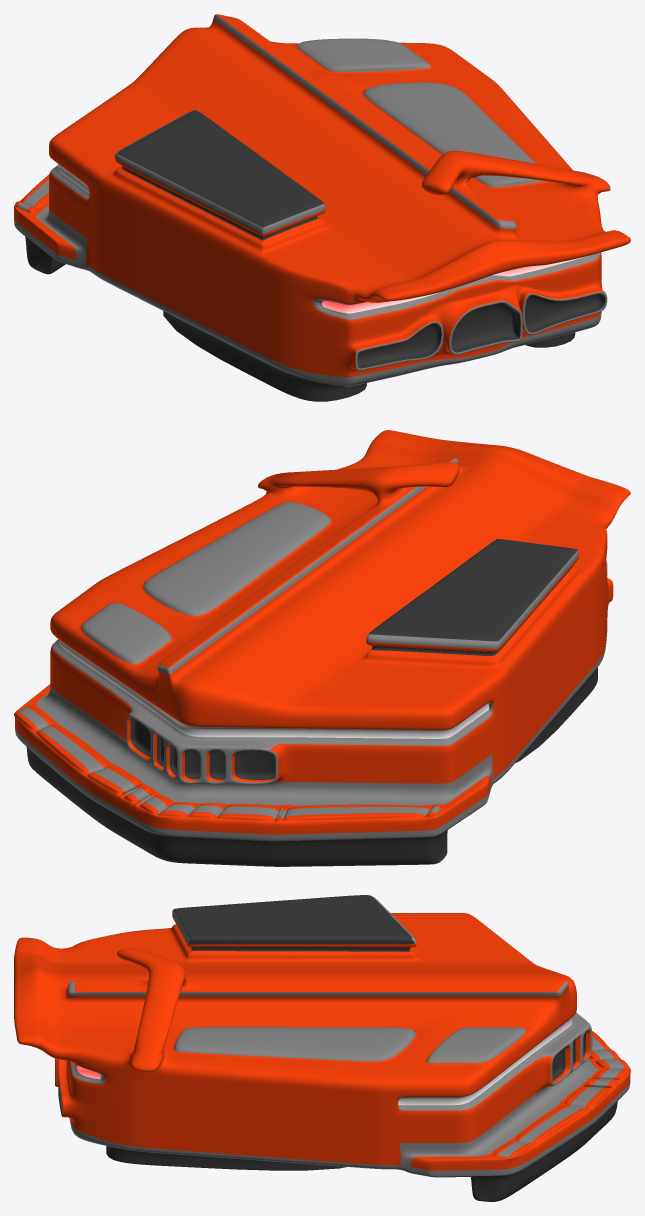
The model's file is experimental car.fbx.
The picture shows the model from 3 angles, top to bottom: view 1: azimuth 30°, elevation 25°; view 2: azimuth 150°, elevation 25°; view 3: azimuth 270°, elevation 25°; orthographic projection. The views are drawn at different scales.
Visible parts, largest first — view 1: Cube; view 2: Cube; view 3: Cube.
Part boxes in pixels (x1,y1,x2,y2): Cube: (14,14,630,401); Cube: (14,430,630,866); Cube: (14,895,630,1201).
Bounding box in the file's own units: 213 × 91.87 × 306.
